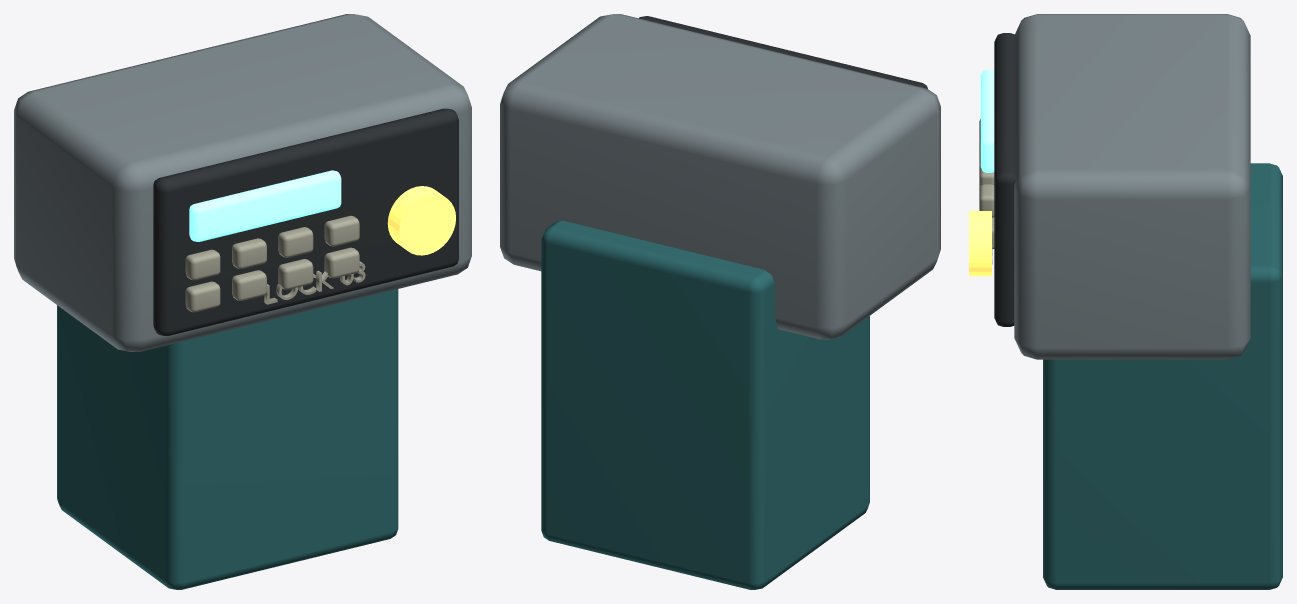
The model's file is keypad.glb.
3 renders of one model, left to right at view 1: azimuth 30°, elevation 25°; view 2: azimuth 150°, elevation 25°; view 3: azimuth 270°, elevation 25°, orthographic. The views are drawn at different scales.
Parts seen in each view (by area): view 1: Welded pedestal, Key station, Recessed panel, Readout slot, Interlock, Ceramic key, LOCK 03, Ceramic key.004, Ceramic key.002, Ceramic key.006, Ceramic key.003, Ceramic key.007 (+2 smaller); view 2: Key station, Welded pedestal, Recessed panel; view 3: Key station, Welded pedestal, Recessed panel, Readout slot, Interlock, Ceramic key.003.
Boxes of the visible parts, box(x1,y1,x2,y2) form: Welded pedestal: box(57, 289, 398, 589); Key station: box(14, 14, 471, 351); Recessed panel: box(153, 108, 458, 335); Readout slot: box(189, 170, 341, 241); Interlock: box(387, 186, 455, 255); Ceramic key: box(185, 249, 220, 280); LOCK 03: box(264, 261, 365, 304); Ceramic key.004: box(185, 281, 220, 312); Ceramic key.002: box(278, 227, 313, 257); Ceramic key.006: box(278, 259, 313, 289); Ceramic key.003: box(324, 215, 359, 246); Ceramic key.007: box(324, 247, 359, 278); Key station: box(500, 14, 940, 339); Welded pedestal: box(541, 220, 869, 589); Recessed panel: box(639, 16, 927, 88); Key station: box(1014, 14, 1250, 359); Welded pedestal: box(1043, 163, 1282, 589); Recessed panel: box(994, 33, 1017, 326); Readout slot: box(980, 69, 994, 172); Interlock: box(969, 211, 991, 276); Ceramic key.003: box(979, 184, 994, 217).
Bounding box in the file's own units: 1.08 × 1.29 × 0.824.
